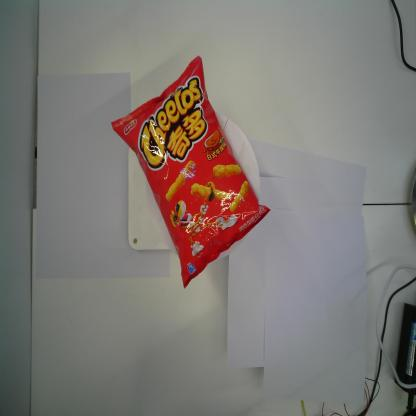Puffed Food: (109, 52, 272, 294)
